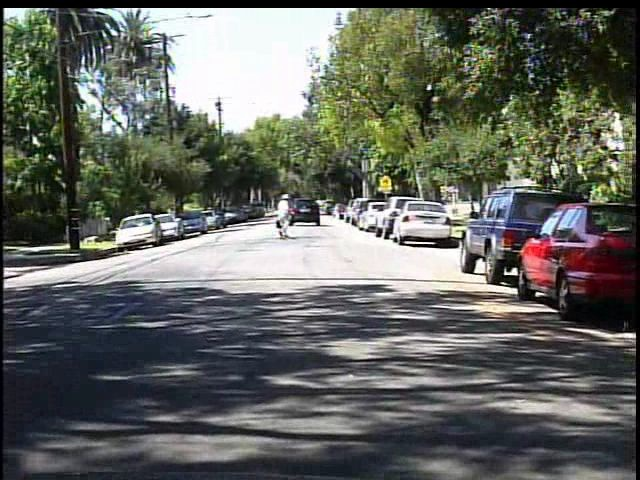person: (271, 193, 299, 242)
